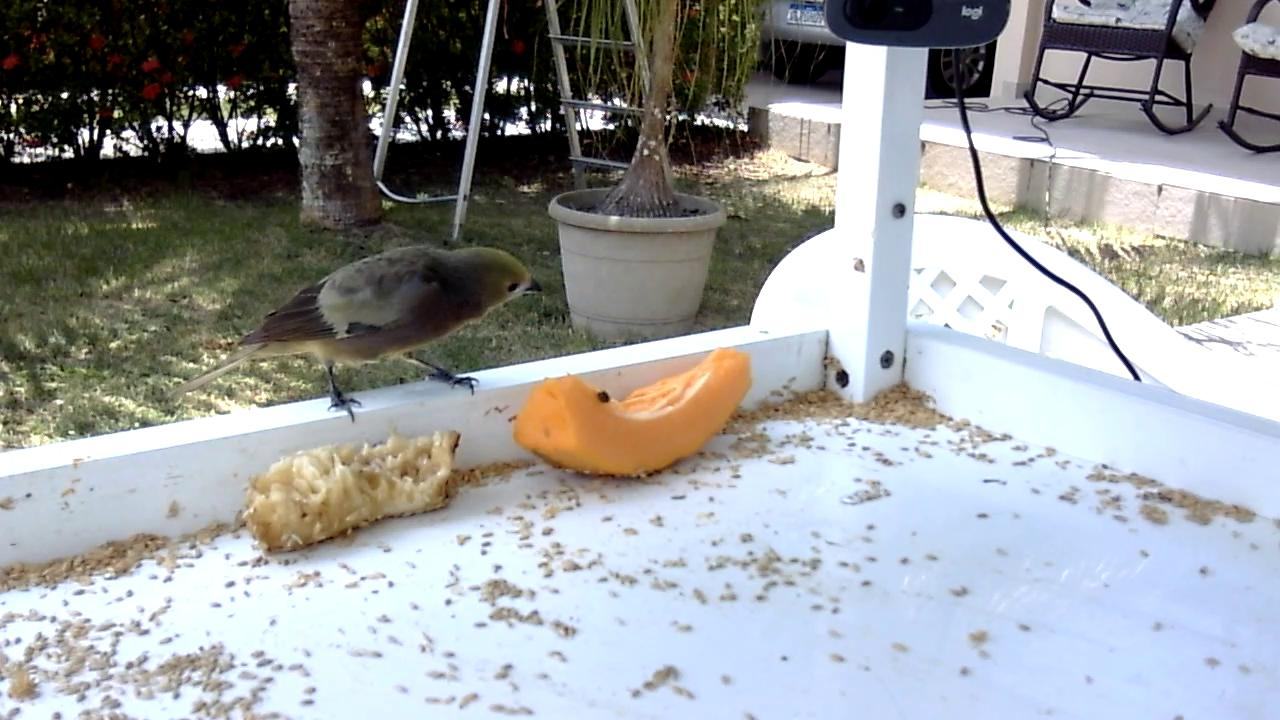sanhaco_do_coqueiro: (167, 242, 548, 428)
